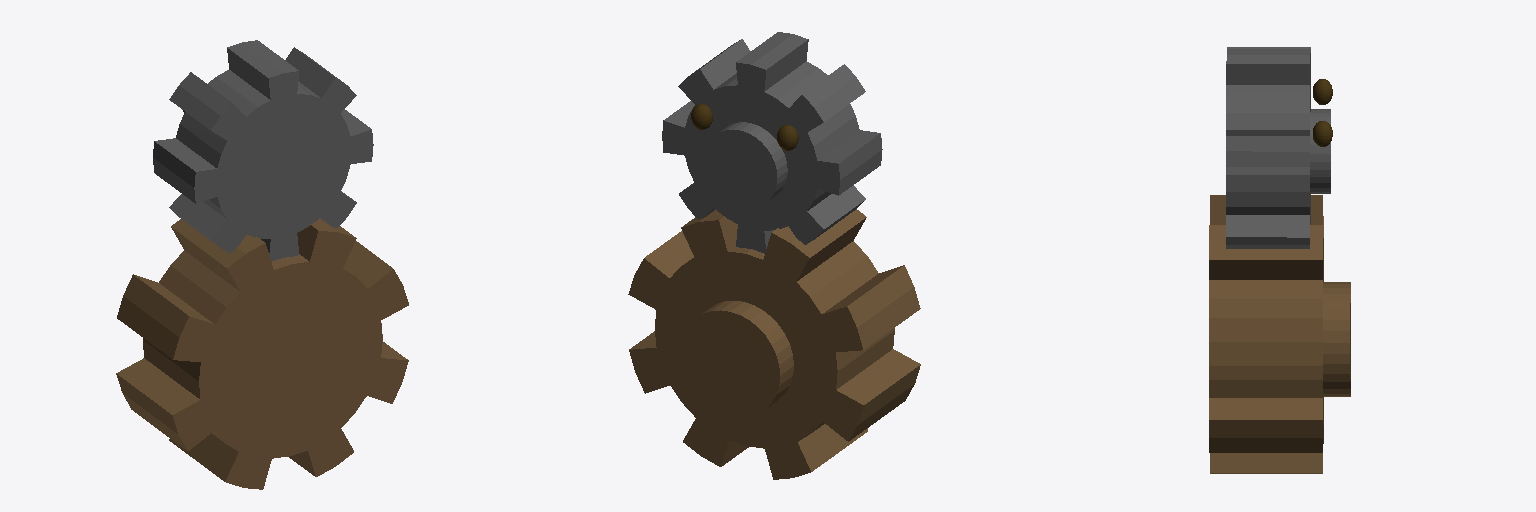
3 views of the same model, side by side, from view 1: azimuth 30°, elevation 25°; view 2: azimuth 150°, elevation 25°; view 3: azimuth 270°, elevation 25° (orthographic).
Visible parts, largest first — view 1: 球; view 2: 球; view 3: 球.
Boxes of the visible parts, <box> form: 球: <box>116,40,408,489</box>; 球: <box>628,32,920,479</box>; 球: <box>1209,47,1350,473</box>.
Bounding box in the file's own units: 2.08 × 3.39 × 1.08.
Materials: 4 (3 with a texture image).